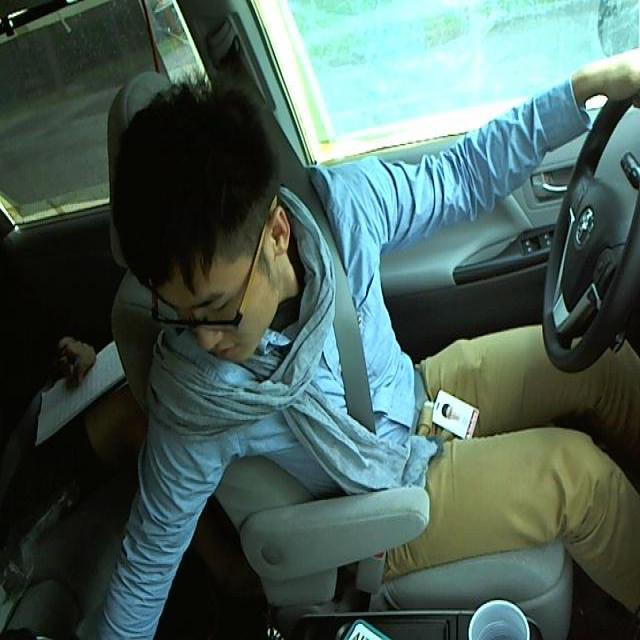seatbelt: (306, 216, 382, 455)
